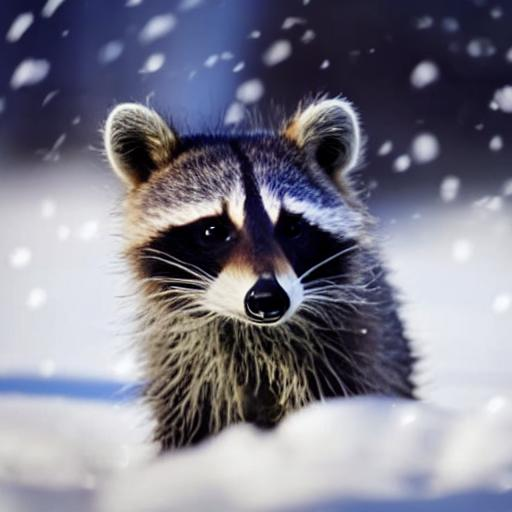raccoon: (87, 86, 436, 457)
